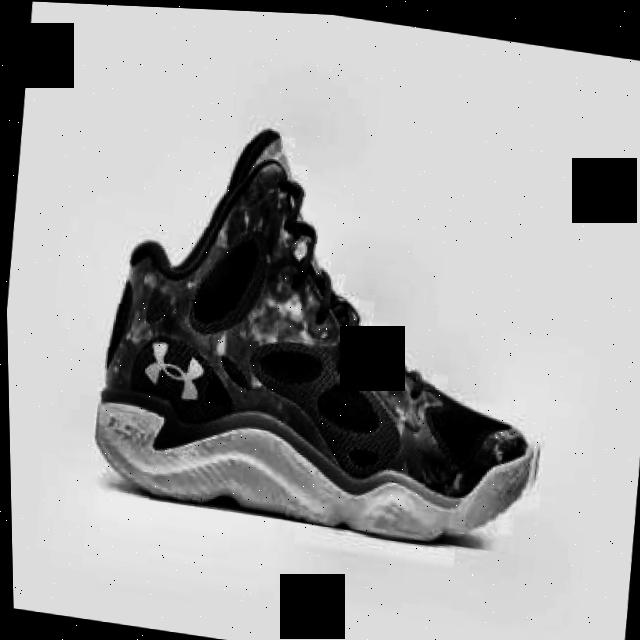shoe: (81, 98, 573, 553)
